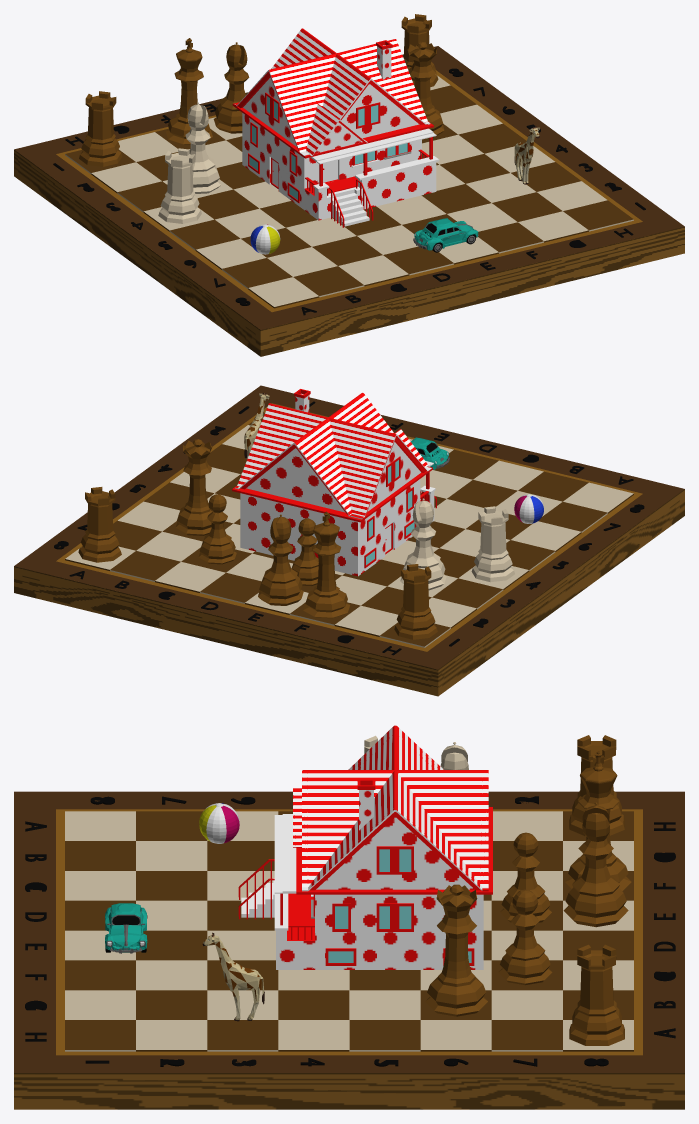
3 views of the same model, one above another, from view 1: azimuth 30°, elevation 25°; view 2: azimuth 150°, elevation 25°; view 3: azimuth 270°, elevation 25° (orthographic). The views are drawn at different scales.
Visible parts, largest first — view 1: Cube.002, Cube.196, VEHICLES_VOLKSWAGEN, ANIMAL_JIRAFA, OBJRANDOM_BEACHBALL; view 2: Cube.002, Cube.196, OBJRANDOM_BEACHBALL, VEHICLES_VOLKSWAGEN, ANIMAL_JIRAFA; view 3: Cube.002, Cube.196, VEHICLES_VOLKSWAGEN, ANIMAL_JIRAFA, OBJRANDOM_BEACHBALL.
Boxes of the visible parts, x1=… form: Cube.002: x1=14, y1=14, x2=684, y2=356; Cube.196: x1=232, y1=28, x2=439, y2=227; VEHICLES_VOLKSWAGEN: x1=413, y1=218, x2=478, y2=252; ANIMAL_JIRAFA: x1=514, y1=126, x2=539, y2=184; OBJRANDOM_BEACHBALL: x1=250, y1=224, x2=280, y2=254; Cube.002: x1=14, y1=385, x2=684, y2=696; Cube.196: x1=232, y1=389, x2=436, y2=576; OBJRANDOM_BEACHBALL: x1=514, y1=494, x2=543, y2=523; VEHICLES_VOLKSWAGEN: x1=410, y1=437, x2=449, y2=469; ANIMAL_JIRAFA: x1=244, y1=393, x2=269, y2=459; Cube.002: x1=14, y1=735, x2=684, y2=1109; Cube.196: x1=238, y1=725, x2=492, y2=969; VEHICLES_VOLKSWAGEN: x1=105, y1=903, x2=147, y2=953; ANIMAL_JIRAFA: x1=202, y1=932, x2=264, y2=1021; OBJRANDOM_BEACHBALL: x1=199, y1=803, x2=239, y2=843.
Bounding box in the file's own units: 3981 × 1507 × 4012.
Materials: 35 (4 with a texture image).
